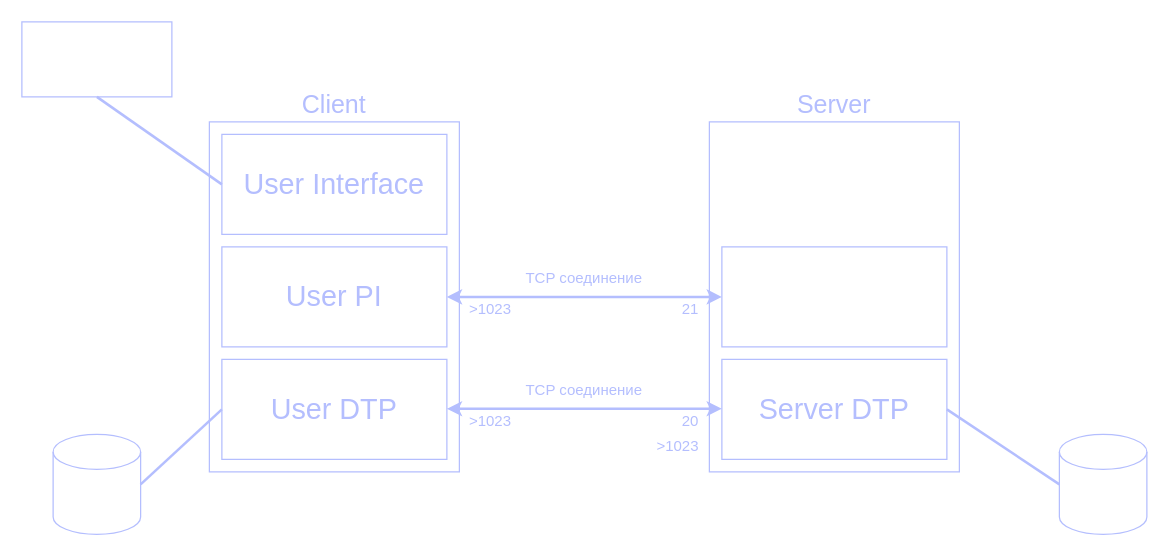
The diagram is 1169 pixels wide and 556 high, and some of its shapes have lost their labels. Each missing label, with the centre of its shape:
"Server PI" goes at (x=834, y=296).
"USER" goes at (x=96, y=59).
